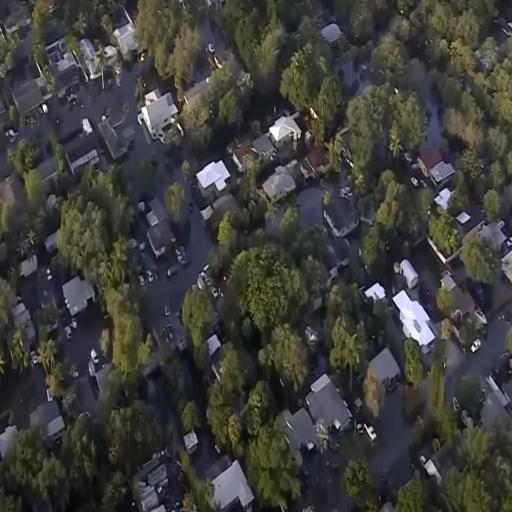flood: (296, 384, 414, 511), (148, 209, 209, 323), (48, 68, 136, 142), (469, 302, 512, 377), (123, 124, 161, 198), (191, 15, 226, 84), (16, 113, 48, 155), (155, 162, 183, 201), (193, 433, 217, 472), (425, 100, 441, 145), (0, 135, 12, 182), (312, 351, 328, 379)
house: (393, 288, 439, 358), (6, 64, 49, 134), (306, 372, 352, 436), (60, 122, 107, 184), (205, 456, 255, 512), (276, 400, 316, 465), (140, 86, 179, 144), (414, 142, 458, 192), (144, 198, 175, 259), (30, 395, 66, 443), (61, 273, 96, 321), (366, 347, 402, 393), (263, 161, 296, 208), (195, 157, 230, 198), (0, 1, 35, 41), (326, 198, 359, 236), (269, 112, 302, 147), (302, 148, 328, 184)
